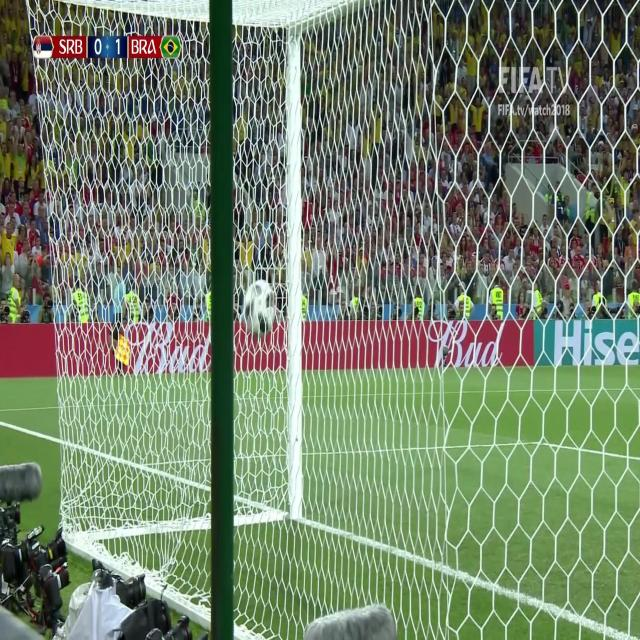ball: (241, 274, 277, 340)
